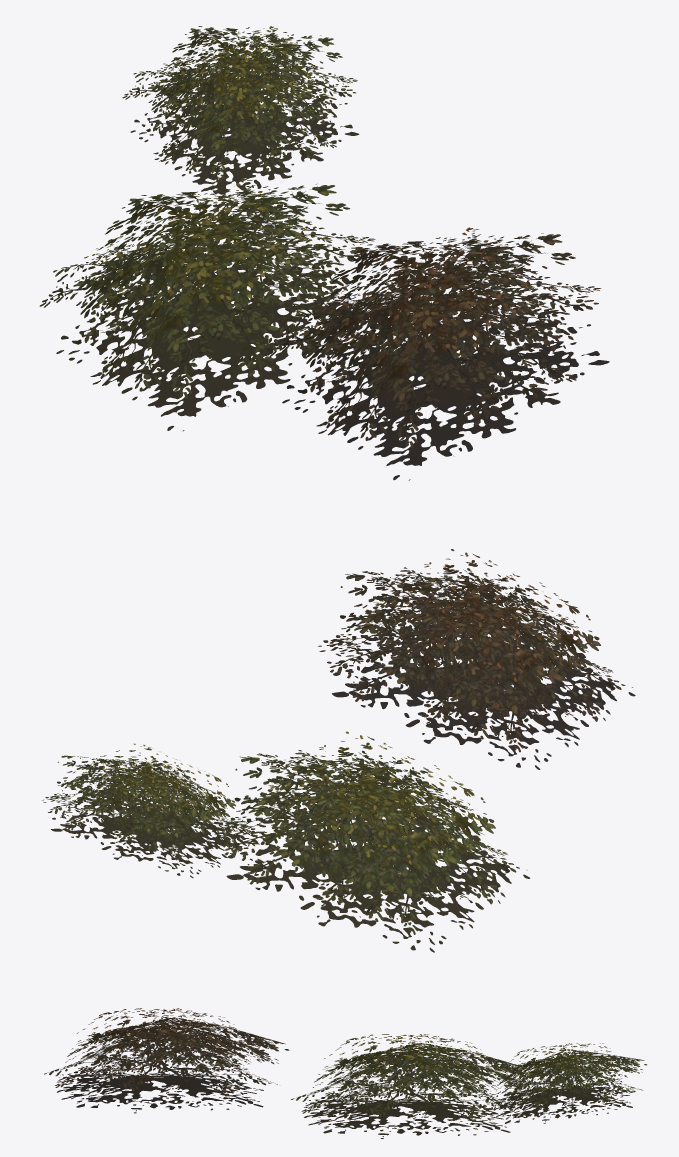
Rendered from plants_bushes05.fbx.
3 renders of one model, top to bottom at view 1: azimuth 30°, elevation 25°; view 2: azimuth 150°, elevation 25°; view 3: azimuth 270°, elevation 25°, orthographic. The views are drawn at different scales.
Visible parts, largest first — view 1: plants_bushes05-0; view 2: plants_bushes05-0; view 3: plants_bushes05-0.
Part boxes in pixels (x1,y1,x2,y2): plants_bushes05-0: (39, 26, 609, 480); plants_bushes05-0: (42, 549, 635, 952); plants_bushes05-0: (44, 1008, 646, 1138).
Bounding box in the file's own units: 6.33 × 3.11 × 12.15.
